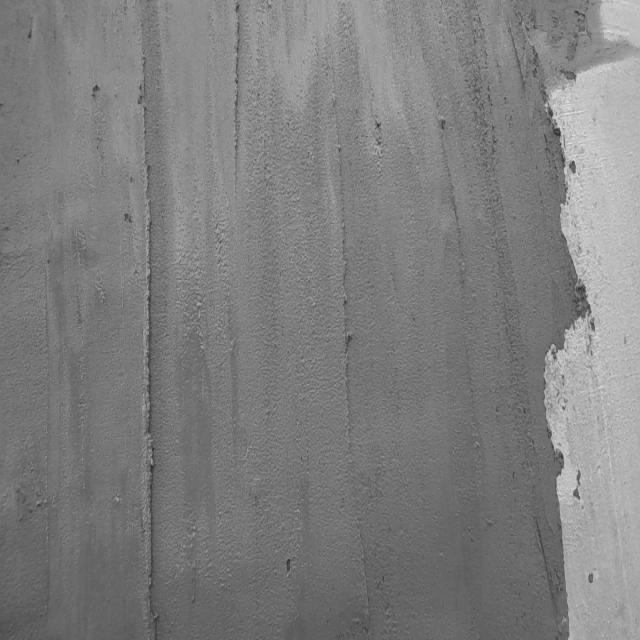trowels marks: (334, 96, 374, 621), (136, 10, 163, 631), (227, 2, 248, 212)
